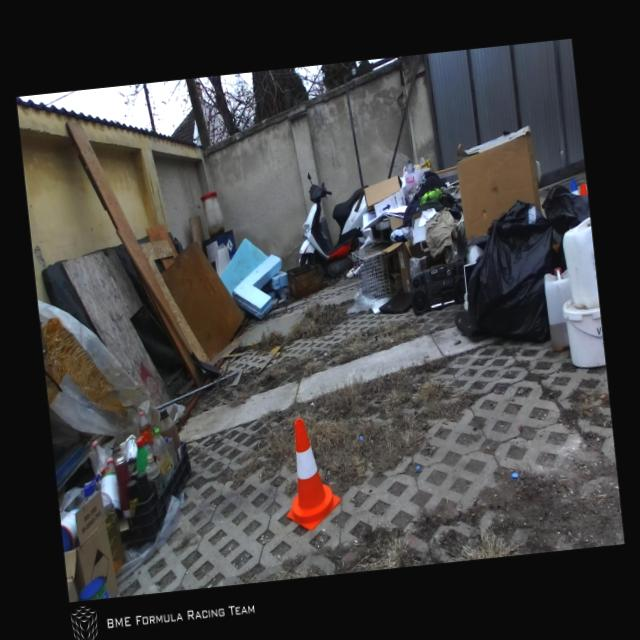large_orange_cone: (276, 416, 344, 532)
